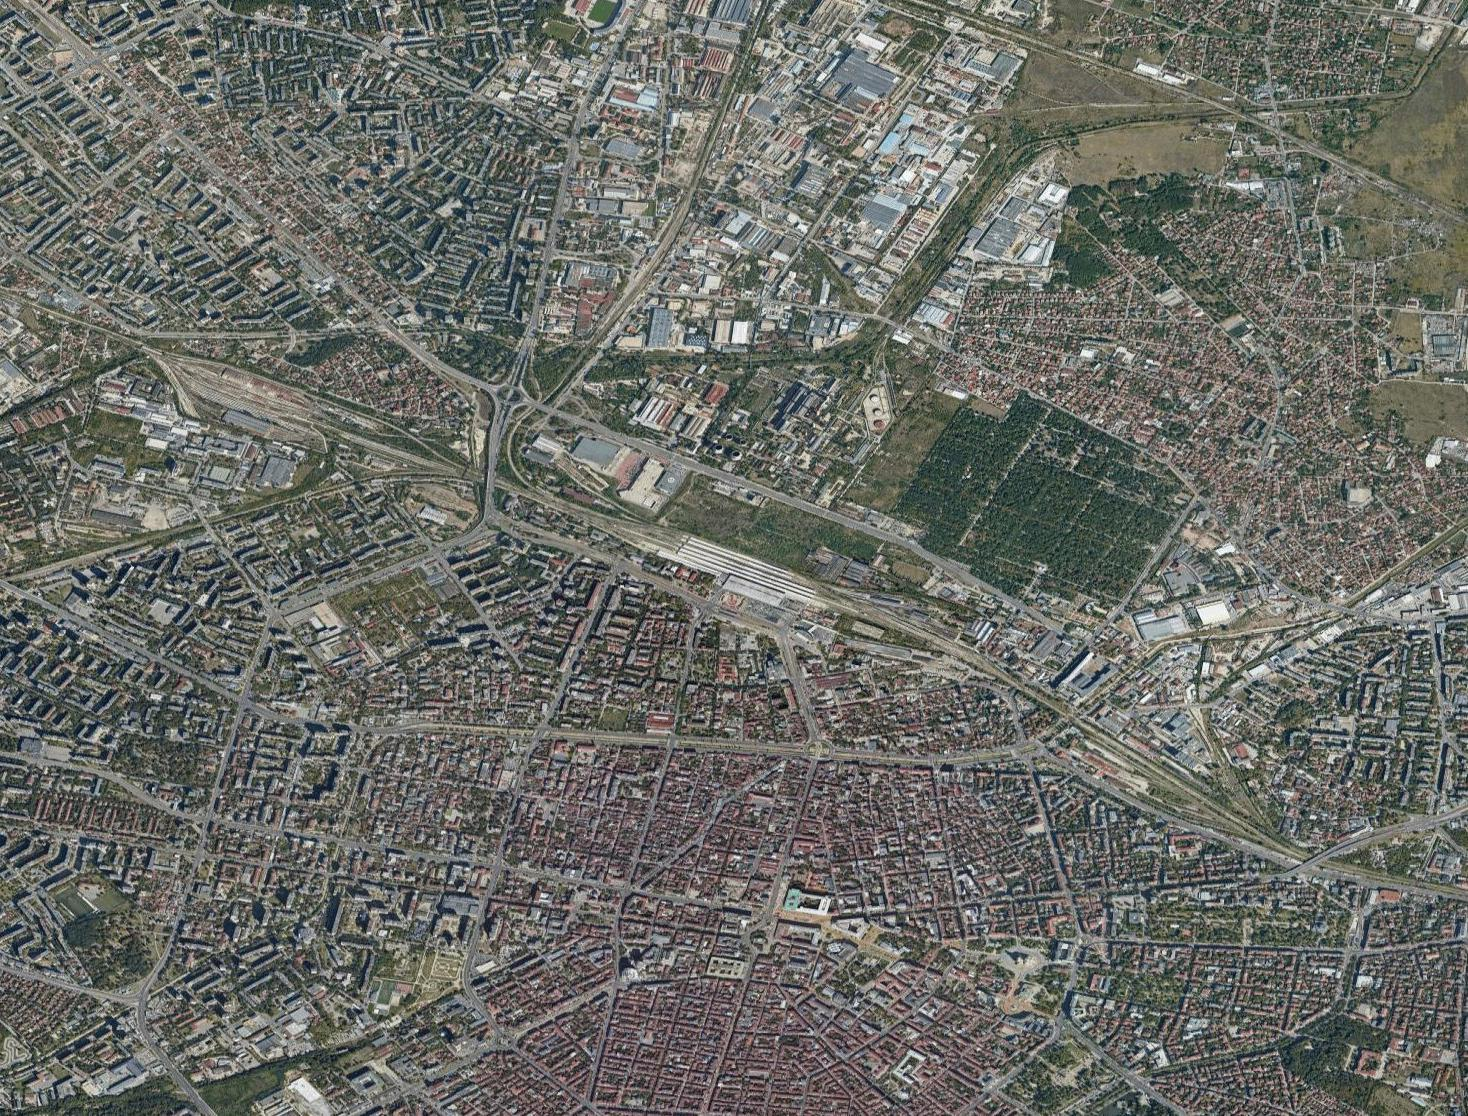industrial: (576, 358, 851, 497)
train_station: (639, 528, 847, 630)
